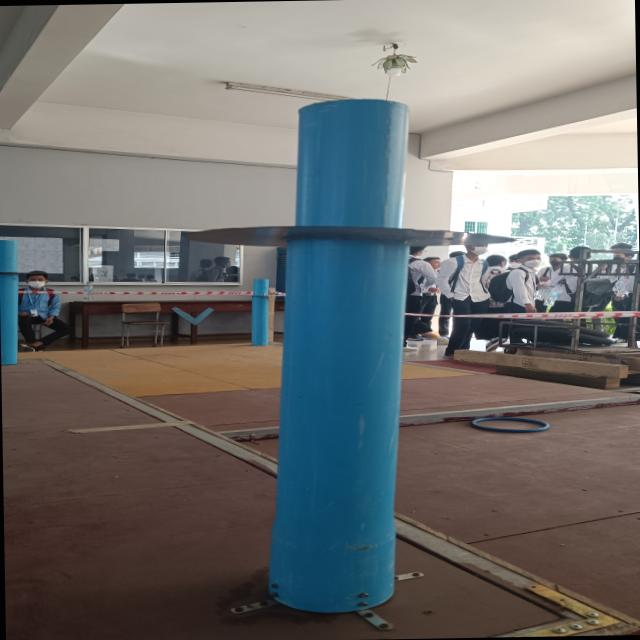pole: (151, 84, 589, 375)
